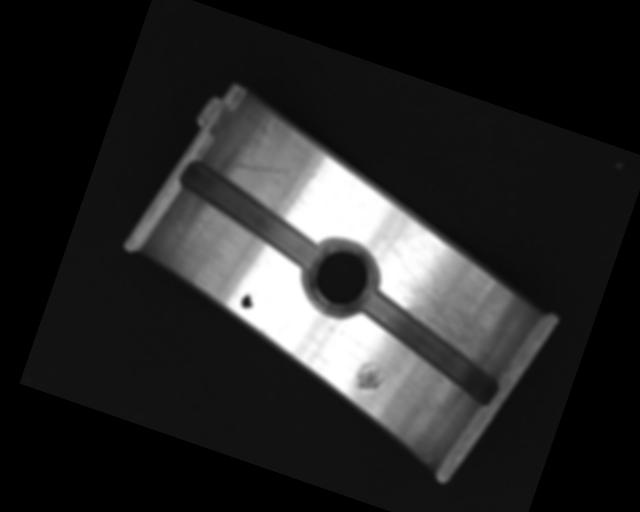blot: (238, 289, 257, 311)
bruise: (350, 357, 389, 396)
gap: (344, 287, 515, 406), (165, 157, 335, 272)
hole: (297, 233, 385, 322)
nick: (231, 145, 317, 194)
scratch: (365, 247, 533, 375)
